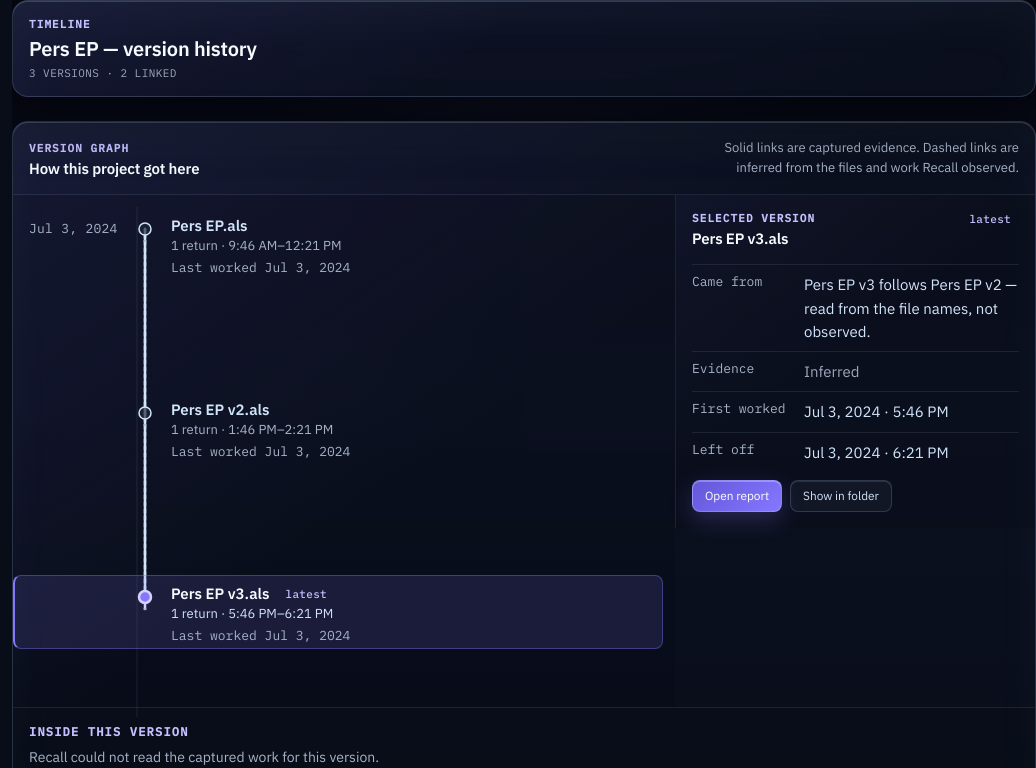
Test: VersionTimelineScreen › changes the selected version without turning sittings into graph nodes
Click the button "Pers EP.als".
click(338, 244)  # box [13,207,663,281]
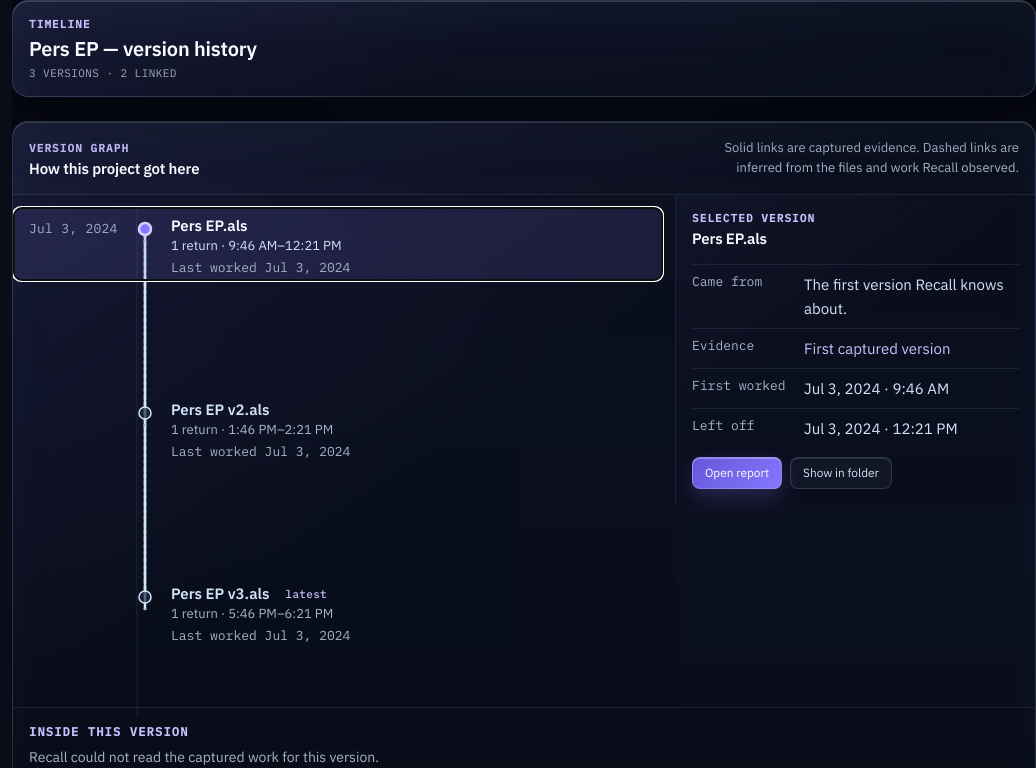
Expected: the heading "Pers EP.als" is shown, [692,229,767,248]
